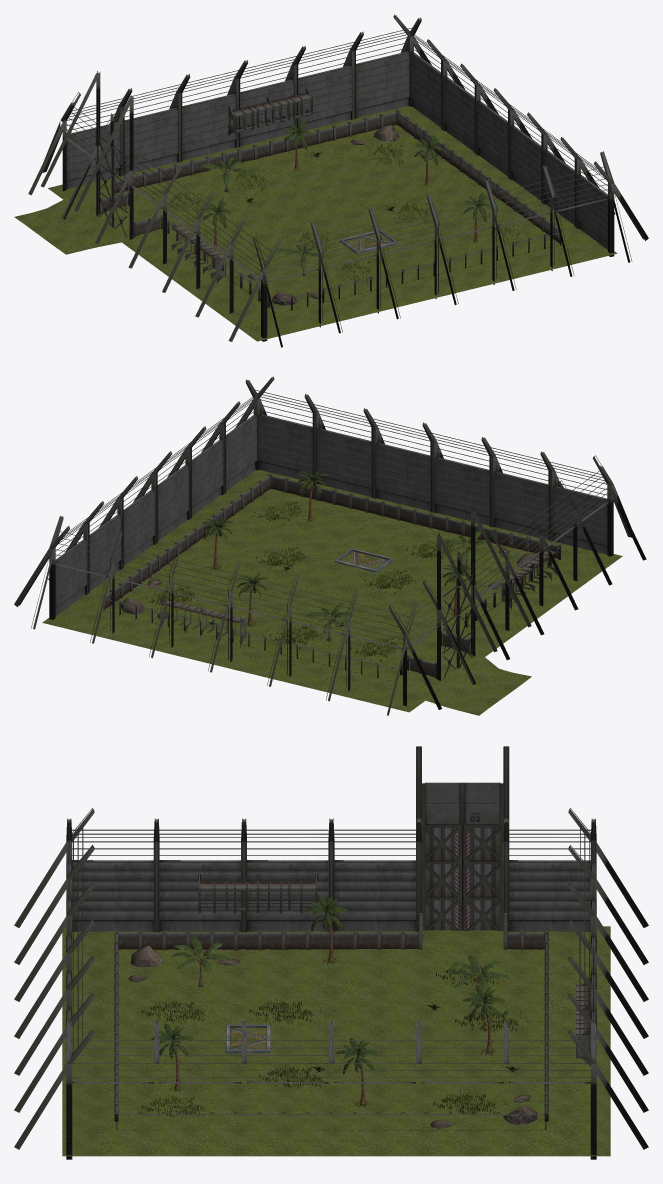
3 renders of one model, top to bottom at view 1: azimuth 30°, elevation 25°; view 2: azimuth 150°, elevation 25°; view 3: azimuth 270°, elevation 25°, orthographic. The views are drawn at different scales.
Parts seen in each view (by area): view 1: Mesh_0031_rip1, Ground, Mesh_0048_rip, Raised_Platform; view 2: Mesh_0031_rip1, Ground, Mesh_0048_rip, Raised_Platform; view 3: Ground, Mesh_0031_rip1, Mesh_0048_rip, Raised_Platform.
Boxes of the visible parts, x1,y1,x2,y2 form: Mesh_0031_rip1: [28, 14, 648, 347]; Ground: [14, 106, 617, 341]; Mesh_0048_rip: [158, 119, 525, 282]; Raised_Platform: [340, 230, 397, 253]; Mesh_0031_rip1: [14, 376, 646, 715]; Ground: [42, 470, 622, 715]; Mesh_0048_rip: [146, 470, 490, 661]; Raised_Platform: [334, 548, 393, 572]; Ground: [62, 926, 610, 1156]; Mesh_0031_rip1: [14, 746, 648, 1159]; Mesh_0048_rip: [141, 895, 529, 1120]; Raised_Platform: [226, 1024, 270, 1053].
Bounding box in the file's own units: 82.58 × 30.38 × 78.13.
Materials: 3 (3 with a texture image).
